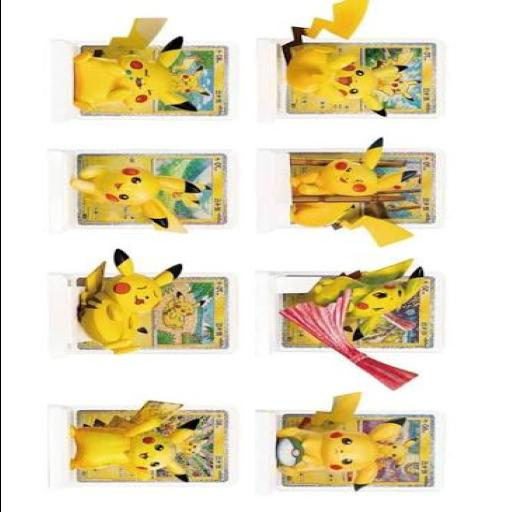Pikachu: (280, 0, 408, 120), (288, 138, 416, 248), (274, 392, 406, 494), (70, 18, 198, 114), (76, 249, 182, 354), (68, 401, 200, 482), (312, 258, 424, 342), (66, 164, 200, 234), (369, 52, 420, 102), (376, 160, 422, 214), (160, 292, 204, 330), (169, 58, 210, 96), (373, 438, 417, 468), (162, 182, 212, 208), (174, 435, 209, 459)
